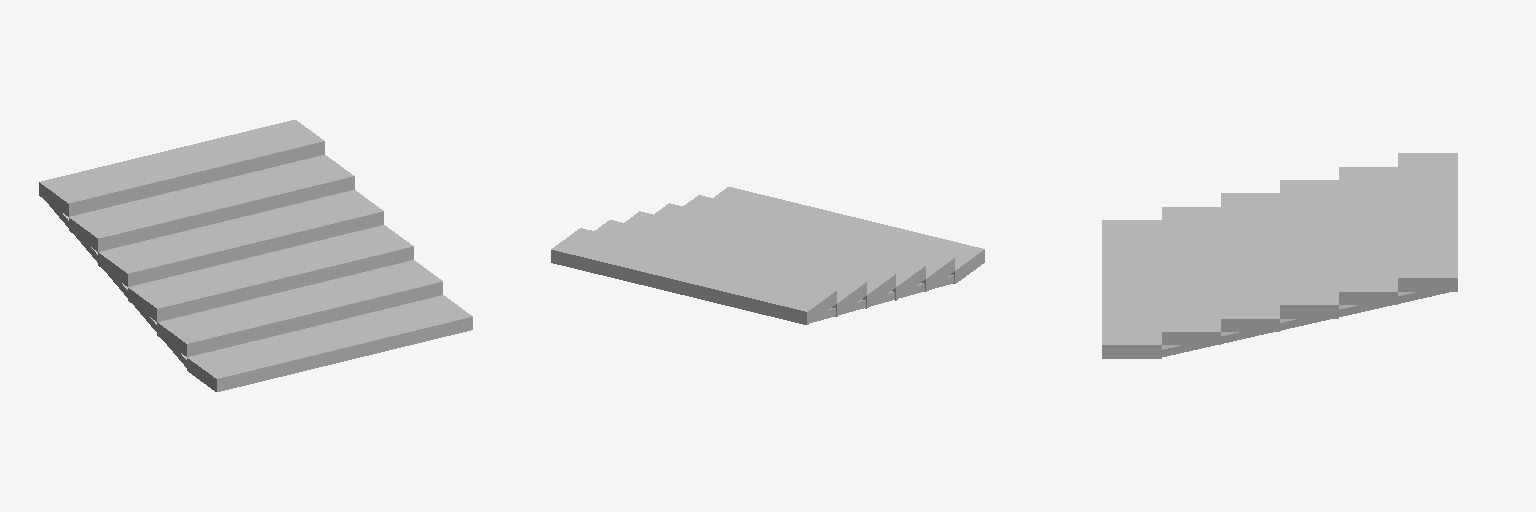
The model's file is stairs2.obj.
3 renders of one model, left to right at view 1: azimuth 30°, elevation 25°; view 2: azimuth 150°, elevation 25°; view 3: azimuth 270°, elevation 25°, orthographic.
Parts seen in each view (by area): view 1: Stairs_2; view 2: Stairs_2; view 3: Stairs_2.
Boxes of the visible parts, x1,y1,x2,y2 form: Stairs_2: [39, 120, 472, 391]; Stairs_2: [551, 187, 984, 324]; Stairs_2: [1102, 153, 1457, 358].
Size of the model in its own units: 2 by 0.6 by 2.4.